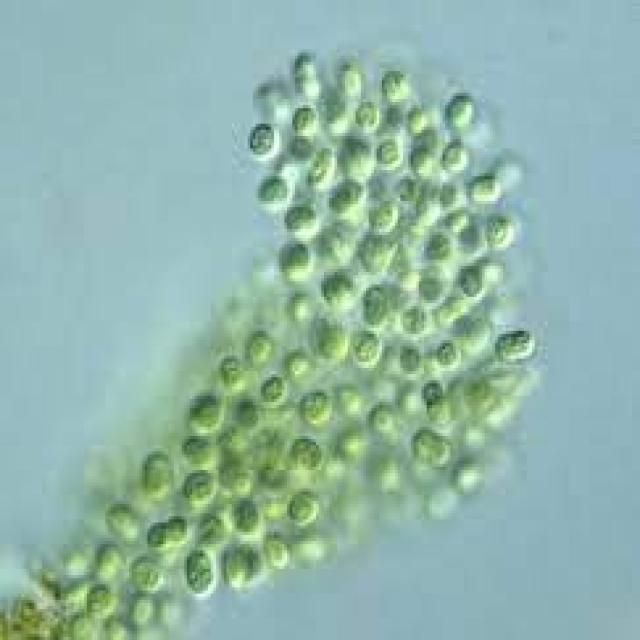Blue Green Algae: (140, 448, 177, 501), (318, 269, 364, 309), (179, 550, 216, 597), (495, 324, 540, 362), (176, 433, 218, 473), (279, 238, 316, 281), (298, 383, 334, 427), (287, 436, 324, 476), (348, 328, 387, 365), (327, 180, 366, 217), (255, 173, 292, 210), (182, 467, 216, 507), (248, 120, 282, 160), (192, 514, 229, 550), (187, 396, 226, 430), (218, 460, 252, 498), (284, 201, 322, 235), (229, 495, 261, 535), (445, 93, 477, 133), (379, 65, 411, 105), (487, 213, 519, 250), (85, 584, 114, 622), (287, 492, 319, 526), (471, 173, 503, 207), (363, 284, 390, 324), (369, 201, 400, 235), (395, 340, 421, 380), (129, 560, 163, 590), (442, 139, 472, 173), (458, 263, 485, 300), (414, 194, 445, 226), (374, 136, 406, 167), (232, 392, 258, 430), (219, 352, 245, 390), (258, 374, 287, 408), (432, 340, 461, 374), (400, 303, 430, 334), (424, 232, 453, 263), (245, 331, 271, 365), (411, 146, 434, 180), (356, 99, 379, 133), (292, 105, 319, 133), (369, 402, 395, 430), (419, 380, 448, 405), (166, 516, 187, 544), (147, 520, 166, 550)
